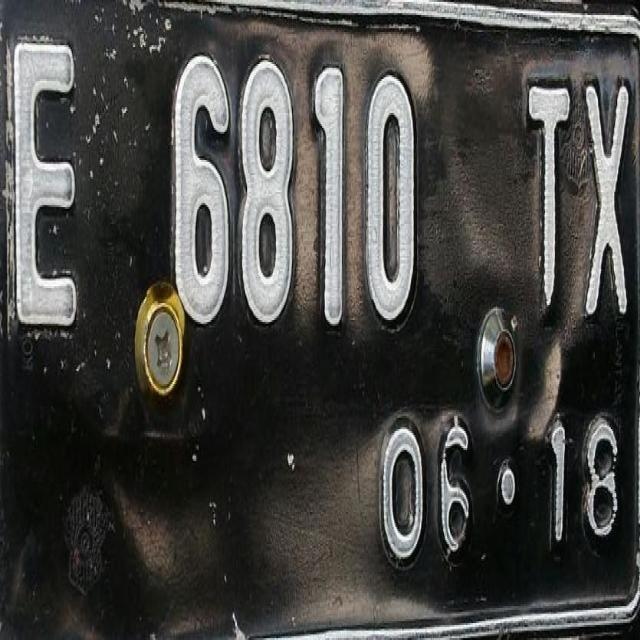0: (357, 52, 417, 340)
1: (305, 45, 355, 356)
6: (163, 39, 236, 330)
8: (235, 45, 299, 328)
E: (6, 24, 84, 360)
T: (522, 61, 576, 330)
X: (578, 66, 634, 339)
